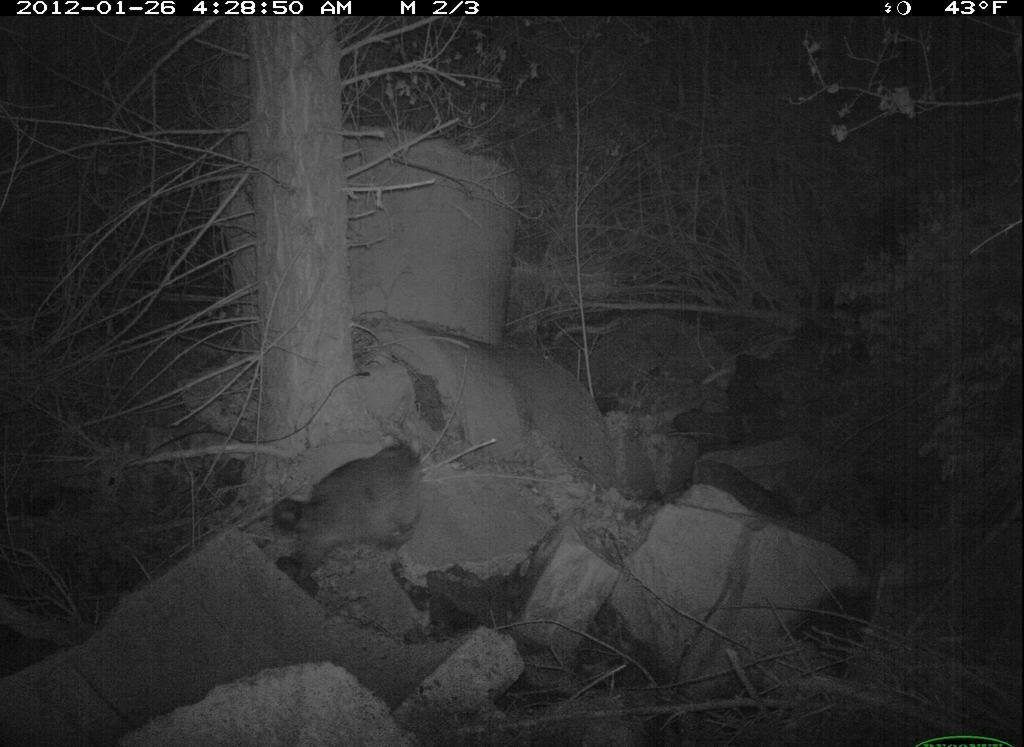raccoon: (262, 443, 441, 565)
